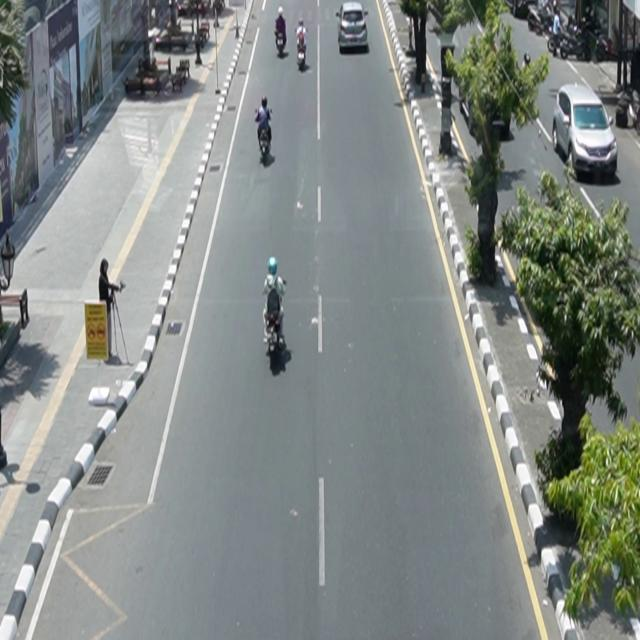car: (553, 82, 619, 181), (337, 2, 370, 53)
